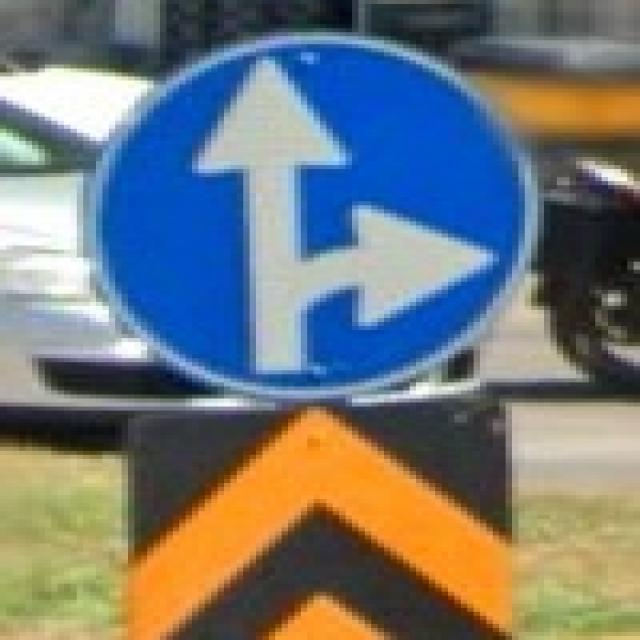Straight or Right: (91, 38, 526, 392)
